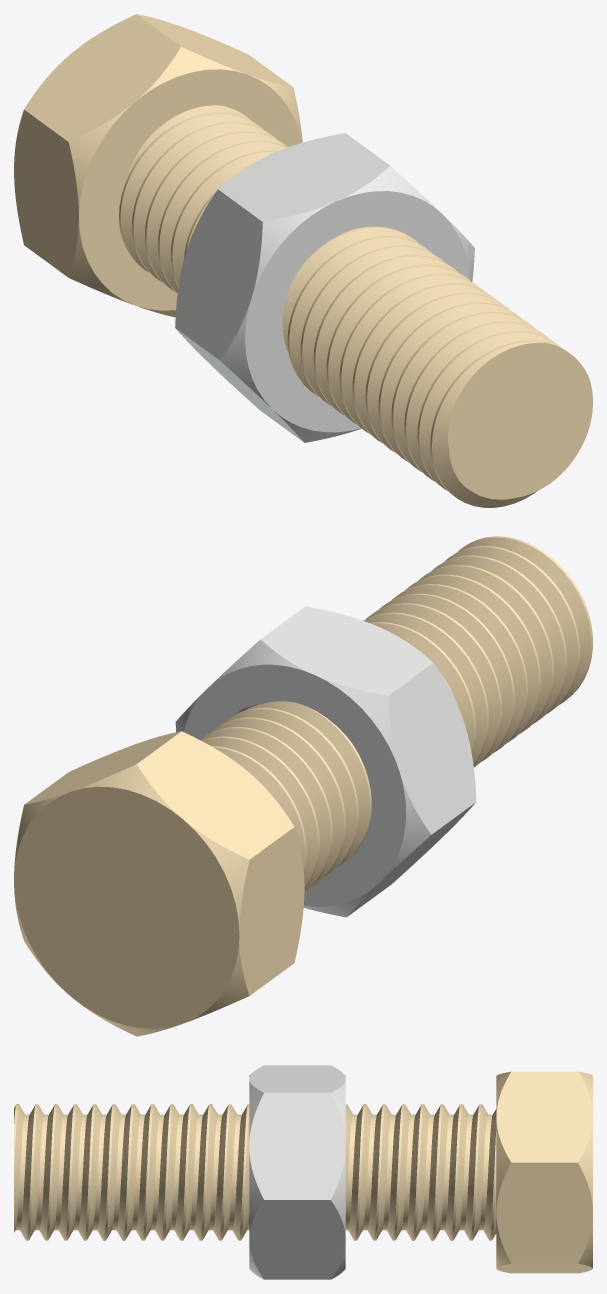
3 renders of one model, top to bottom at view 1: azimuth 30°, elevation 25°; view 2: azimuth 150°, elevation 25°; view 3: azimuth 270°, elevation 25°, orthographic. The views are drawn at different scales.
Parts seen in each view (by area): view 1: bolt-1, nut-1; view 2: bolt-1, nut-1; view 3: bolt-1, nut-1.
Part boxes in pixels (x1,y1,x2,y2): bolt-1: (14, 14, 592, 507); nut-1: (175, 133, 474, 442); bolt-1: (14, 536, 592, 1036); nut-1: (175, 606, 476, 917); bolt-1: (14, 1071, 592, 1273); nut-1: (249, 1065, 345, 1279).
Bounding box in the file's own units: 0.0113 × 0.0115 × 0.03.
